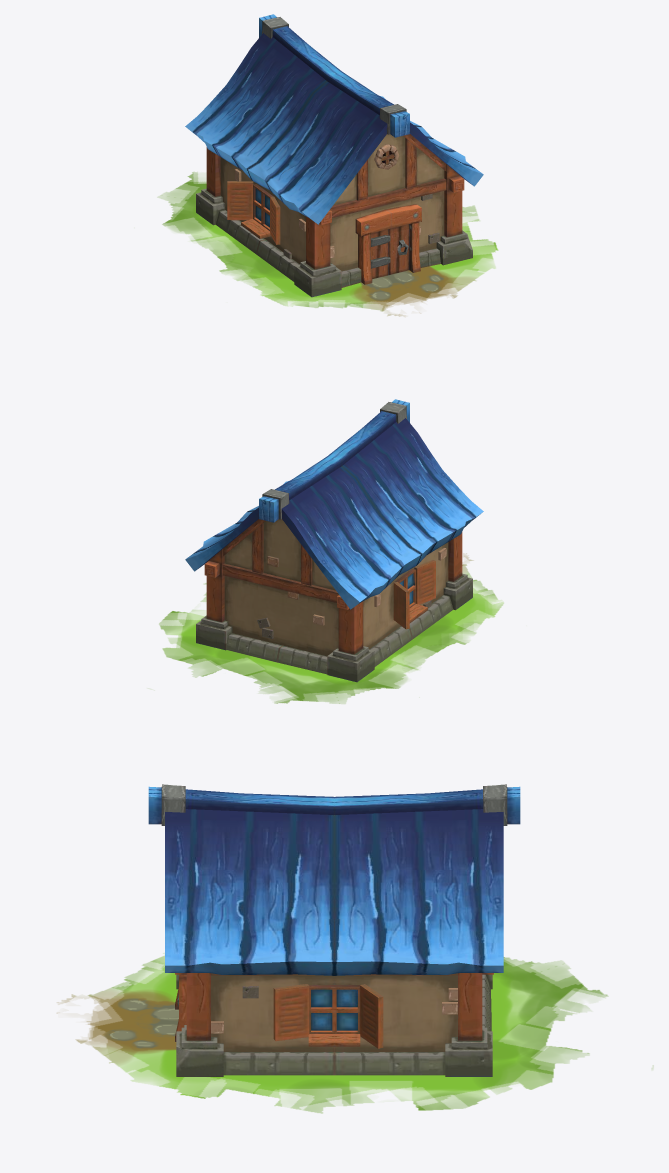
File: house.glb
The picture shows the model from 3 angles, top to bottom: view 1: azimuth 30°, elevation 25°; view 2: azimuth 150°, elevation 25°; view 3: azimuth 270°, elevation 25°; orthographic projection. The views are drawn at different scales.
Parts seen in each view (by area): view 1: Object_5, Object_3; view 2: Object_5, Object_3; view 3: Object_5, Object_3.
Boxes of the visible parts, <box> form: Object_5: <box>185,14,483,297</box>; Object_3: <box>157,172,498,316</box>; Object_5: <box>185,399,483,682</box>; Object_3: <box>159,553,503,703</box>; Object_5: <box>148,784,520,1076</box>; Object_3: <box>57,953,653,1113</box>.
Bounding box in the file's own units: 2 × 0.802 × 2.
Materials: 2 (2 with a texture image).
